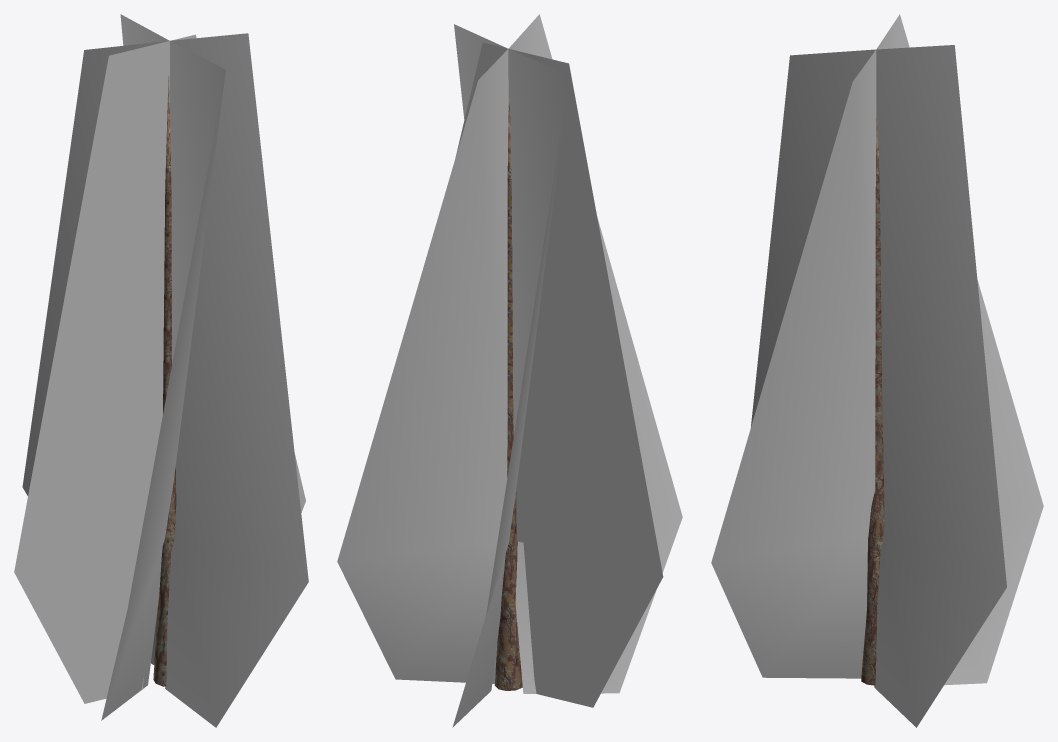
The model's file is Fol_SprucePlateC.FBX.
3 views of the same model, side by side, from view 1: azimuth 30°, elevation 25°; view 2: azimuth 150°, elevation 25°; view 3: azimuth 270°, elevation 25° (orthographic).
Visible parts, largest first — view 1: Spruce_Plate_3, Trunk; view 2: Spruce_Plate_3, Trunk; view 3: Spruce_Plate_3, Trunk.
Part boxes in pixels (left/top/right/bottom): Spruce_Plate_3: left=14, top=14, right=308, bottom=727; Trunk: left=153, top=76, right=176, bottom=686; Spruce_Plate_3: left=337, top=14, right=682, bottom=727; Trunk: left=494, top=93, right=522, bottom=690; Spruce_Plate_3: left=711, top=14, right=1043, bottom=727; Trunk: left=861, top=116, right=884, bottom=685.
Size of the model in its own units: 514 by 1080 by 514.
